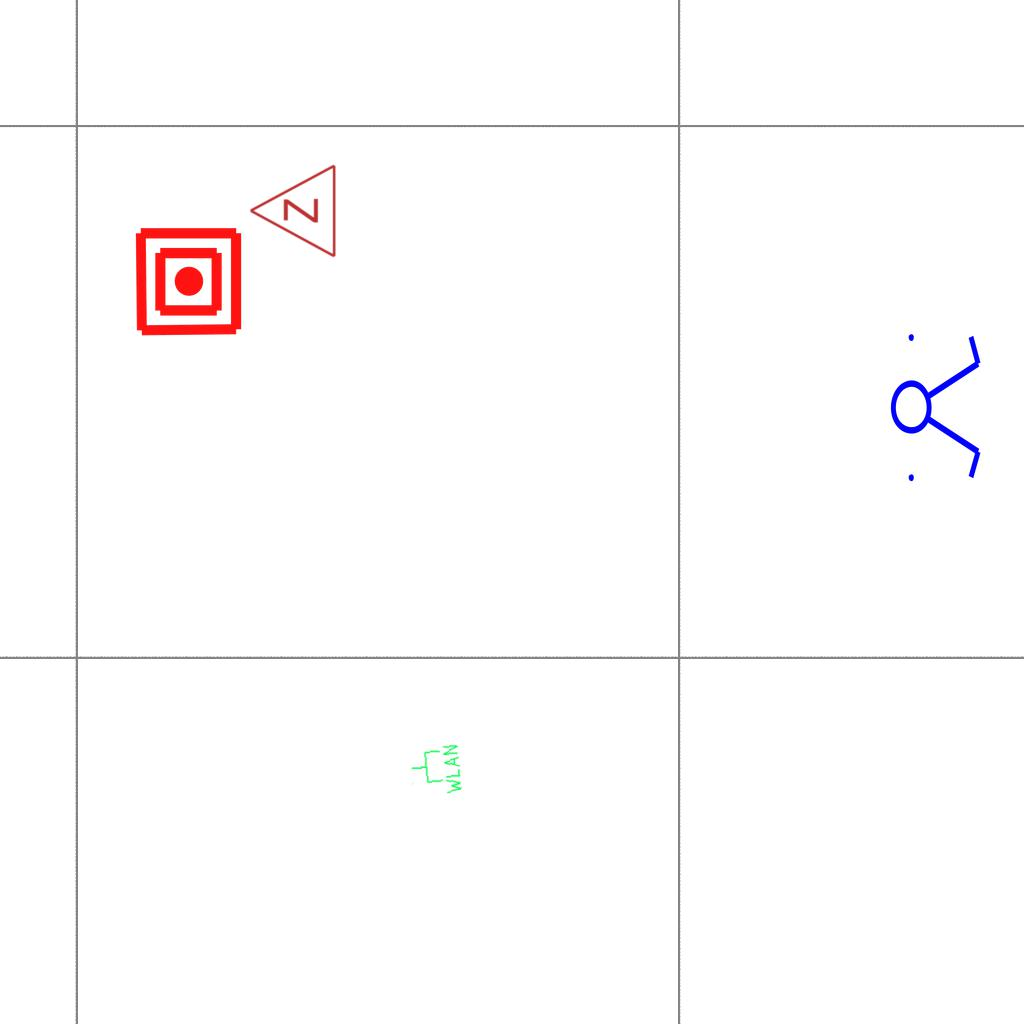NAM-Nichtautomatischer_Melder: (132, 225, 245, 338)
Serienschalter: (889, 322, 985, 490)
WLAN: (407, 742, 465, 800)
Zimmersignalleuchte: (243, 163, 343, 261)
